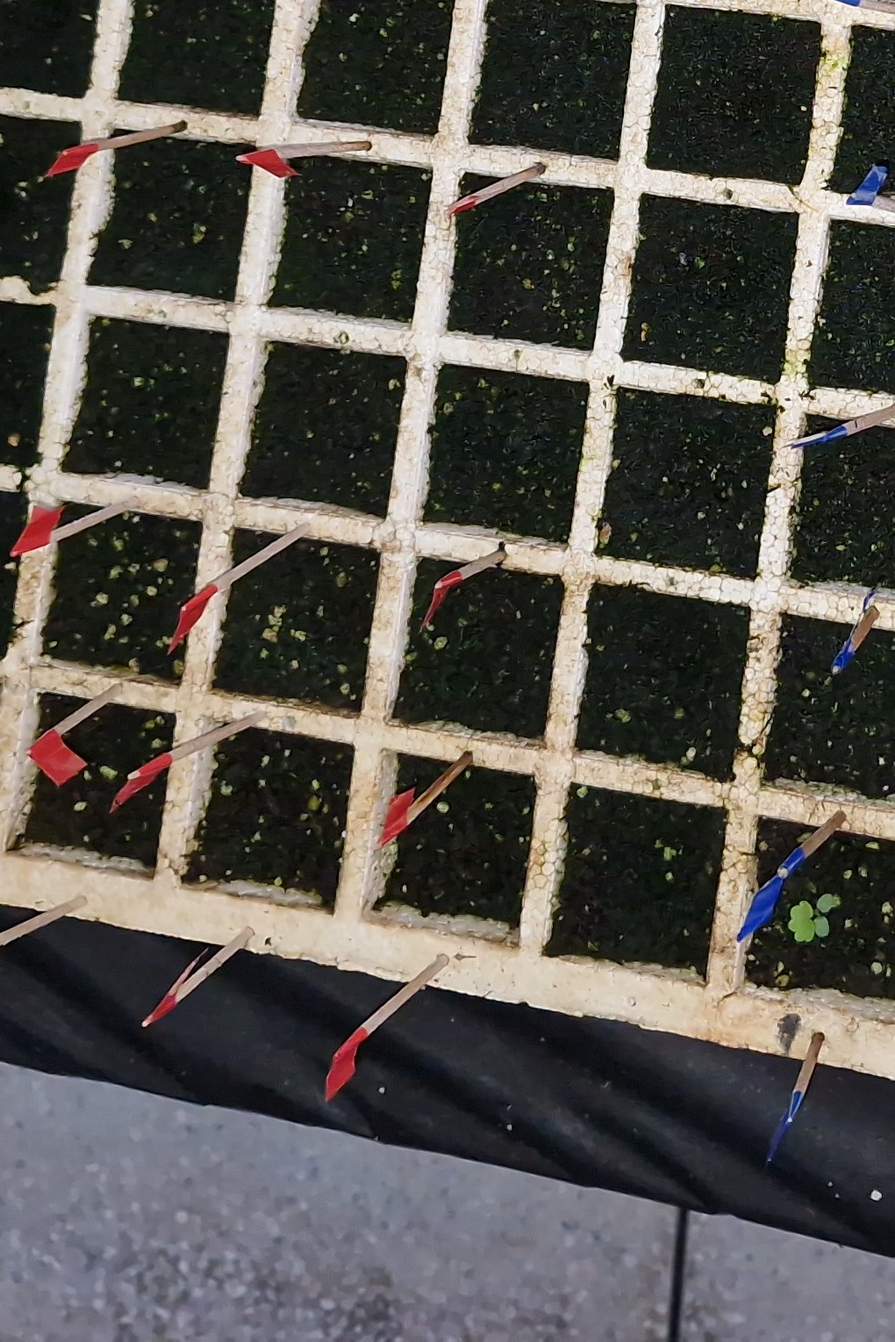Folha: (789, 901, 815, 941), (817, 894, 836, 912), (814, 916, 829, 936)
Germinacao: (789, 894, 836, 942)
